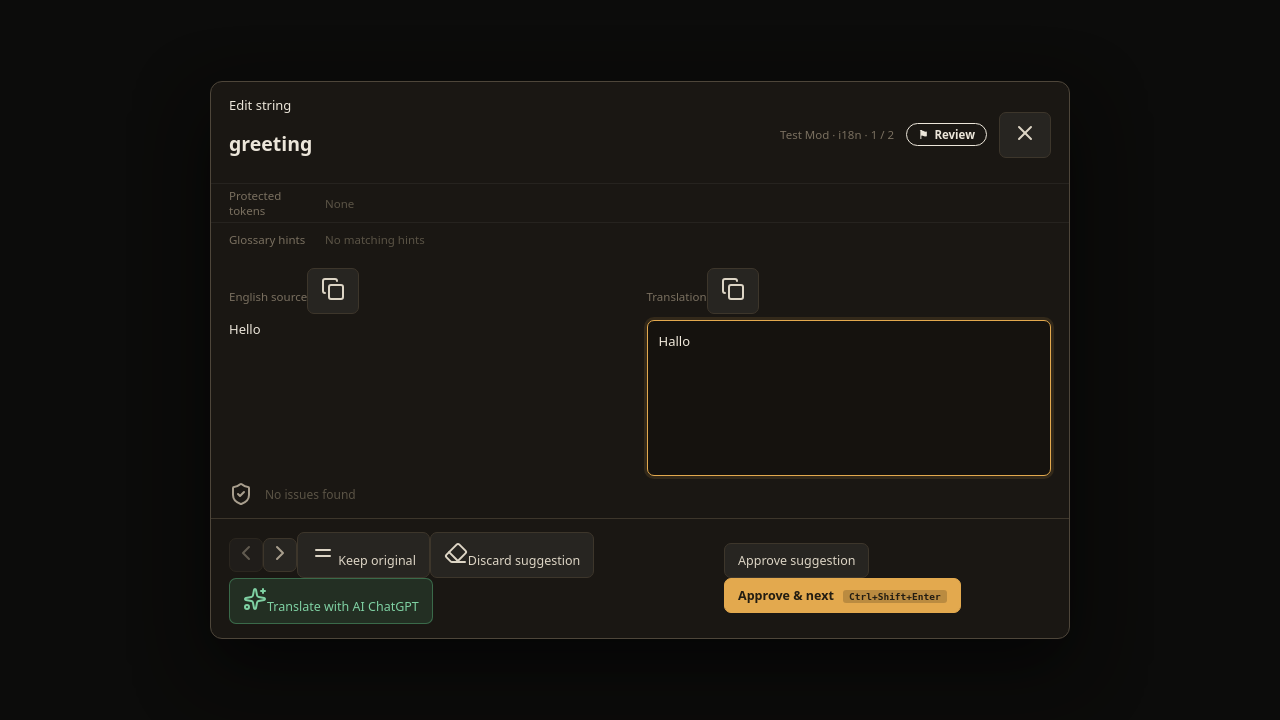
Test: StringEditor › shows the correct action states for persisted Review rows
expect the button "Approve suggestion" is shown: met, box [724,543,870,578]
expect the button "Approve & next Ctrl+Shift+Enter" is shown: met, box [724,578,961,613]
Replace the text in the text box labelled "Translation" with "Hallo!": point(849, 398) [646,320,1051,476]
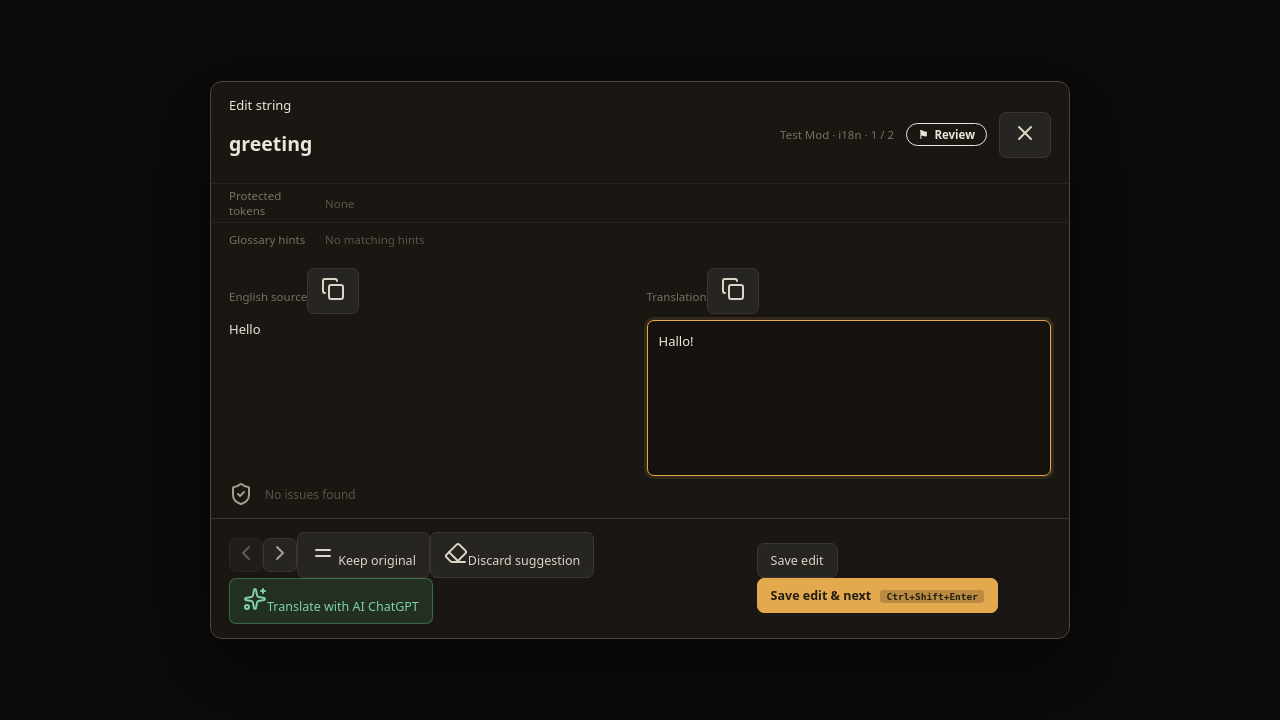
expect the button "Save edit" is shown: met, box [757,543,838,578]
expect the button "Save edit & next Ctrl+Shift+Enter" is shown: met, box [757,578,998,613]
